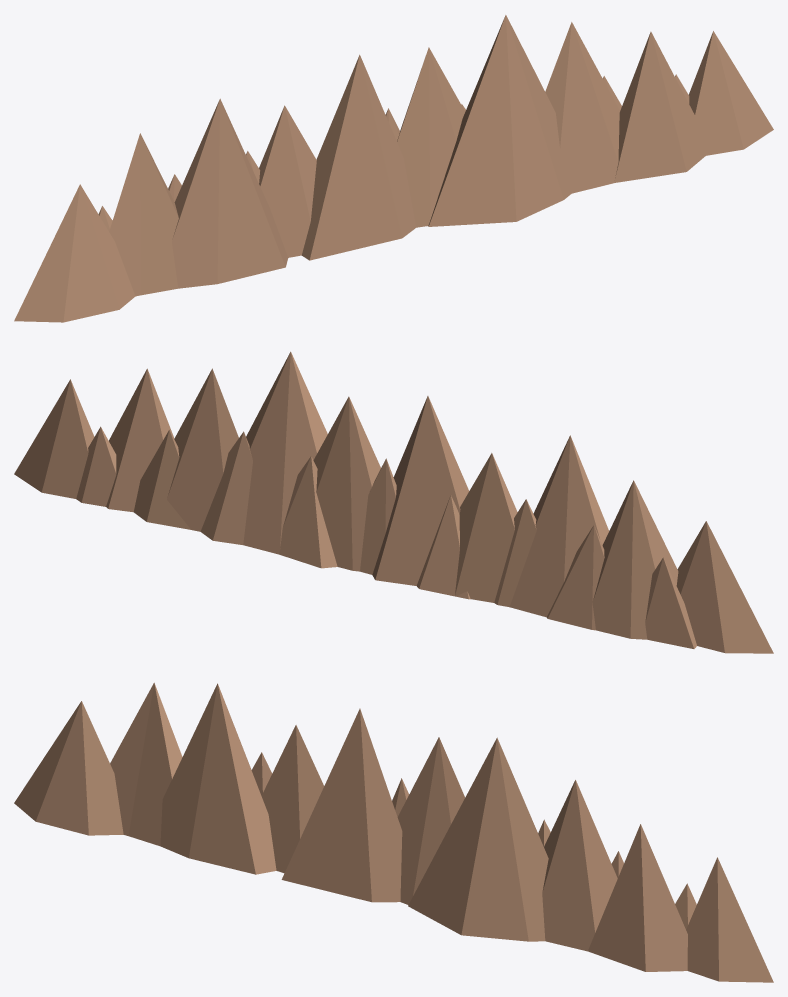
The model's file is canyon_mountains.glb.
The picture shows the model from 3 angles, top to bottom: view 1: azimuth 30°, elevation 25°; view 2: azimuth 150°, elevation 25°; view 3: azimuth 330°, elevation 25°; orthographic projection.
Visible parts, largest first — view 1: CanyonMountains; view 2: CanyonMountains; view 3: CanyonMountains.
Part boxes in pixels (bbox=[...]): CanyonMountains: bbox=[14, 15, 773, 322]; CanyonMountains: bbox=[14, 351, 773, 653]; CanyonMountains: bbox=[14, 682, 773, 982].
Bounding box in the file's own units: 107 × 25 × 12.14.
